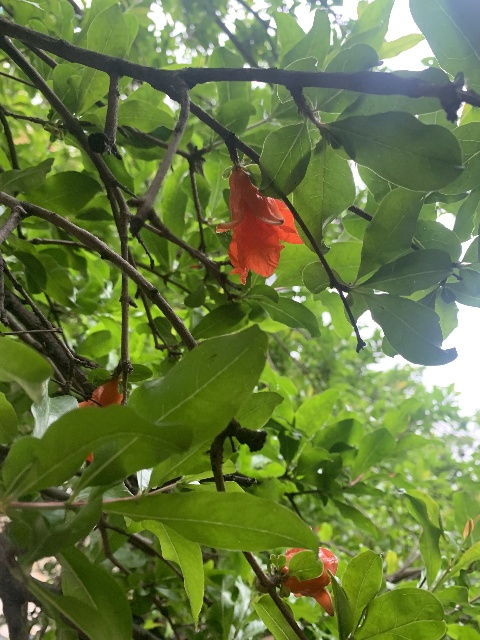flower: (217, 167, 304, 283), (75, 377, 125, 460), (280, 545, 337, 616)
